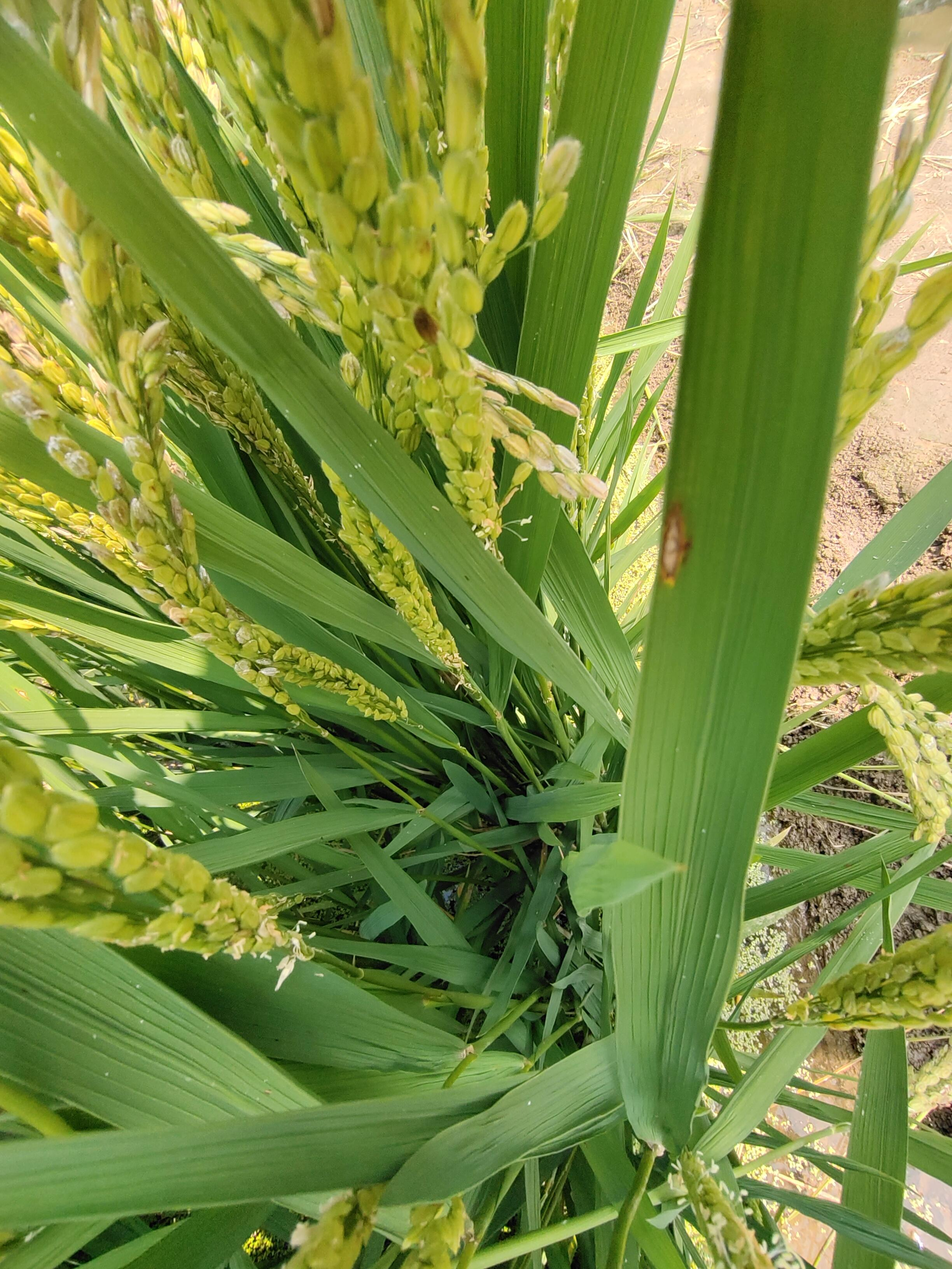LEAF BLAST: (657, 504, 689, 585)
